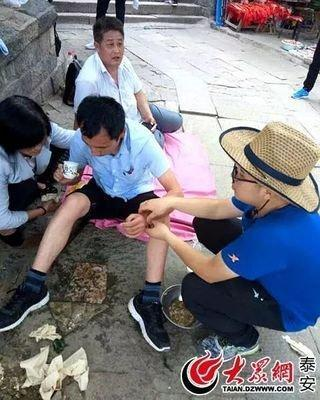Fall-Detected: (6, 90, 180, 344)
